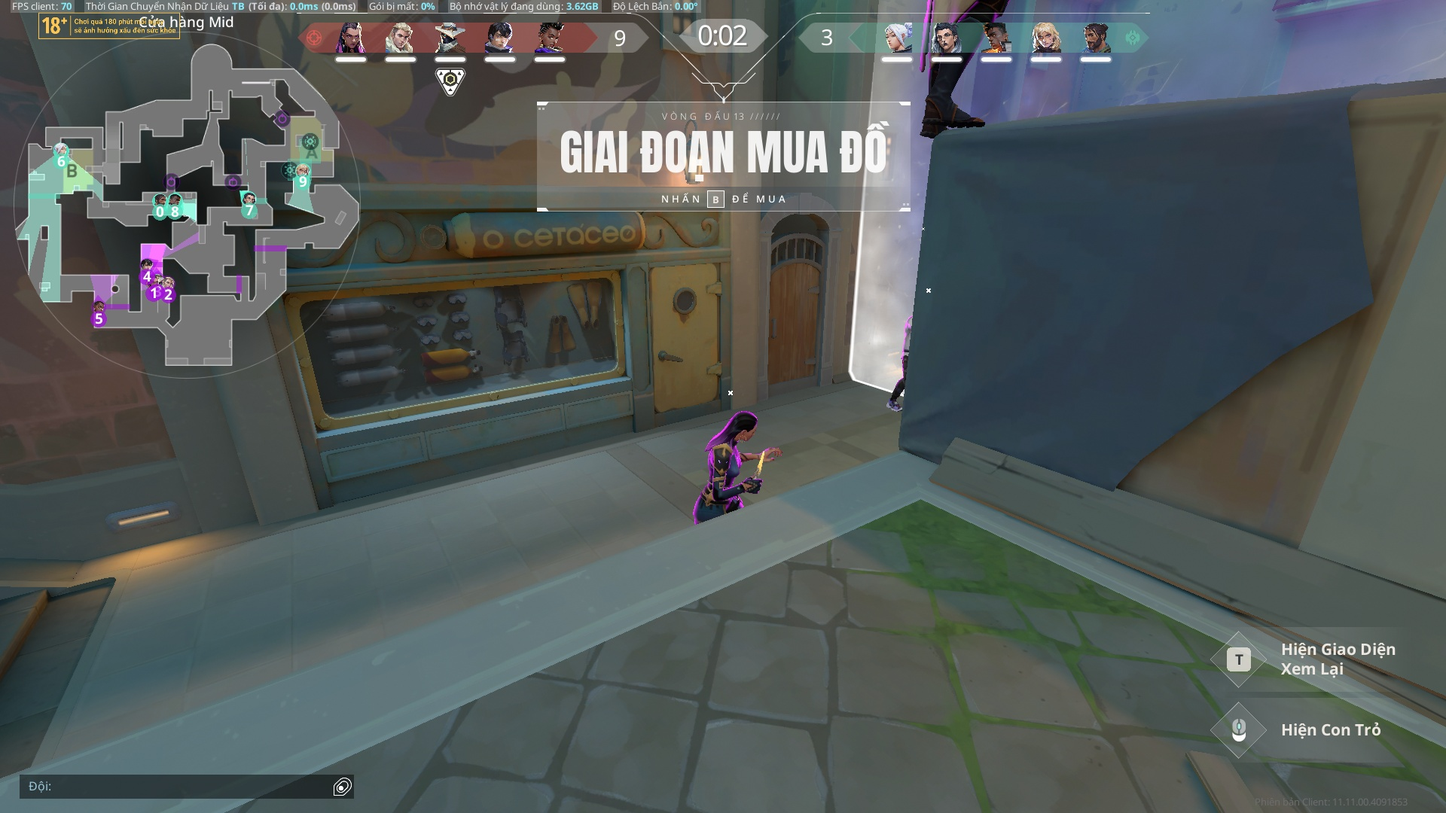body: (704, 440, 739, 495)
head: (725, 409, 758, 445)
